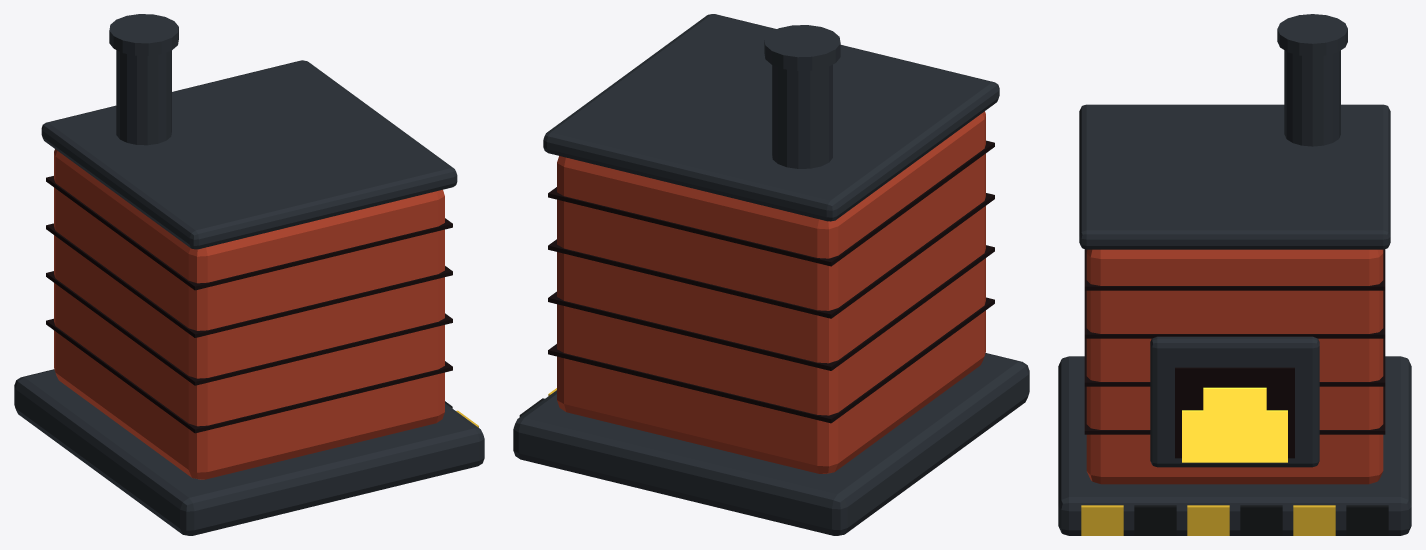
The model's file is furn.fbx.
The picture shows the model from 3 angles, left to right: view 1: azimuth 30°, elevation 25°; view 2: azimuth 150°, elevation 25°; view 3: azimuth 270°, elevation 25°; orthographic projection. The views are drawn at different scales.
Parts seen in each view (by area): view 1: furn; view 2: furn; view 3: furn.
Part boxes in pixels (bbox=[...]): furn: bbox=[14, 14, 484, 535]; furn: bbox=[513, 14, 1029, 535]; furn: bbox=[1058, 14, 1411, 535].
Size of the model in its own units: 1 by 1.01 by 1.26.
